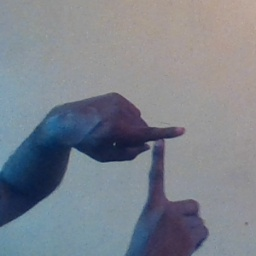T: (107, 103, 205, 214)
